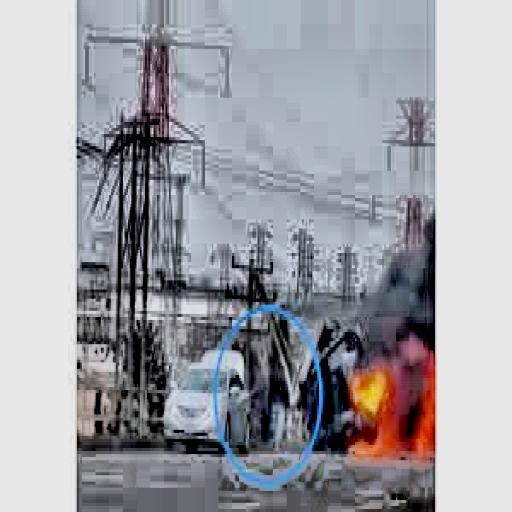fire: (352, 332, 432, 472)
